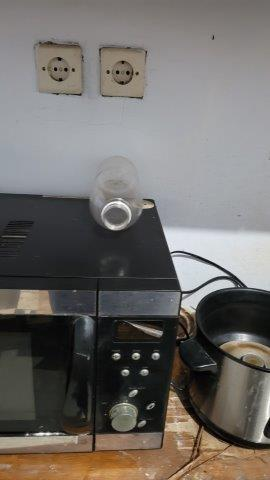botolplastik: (89, 155, 143, 234)
